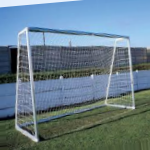goals: (13, 26, 136, 141)
